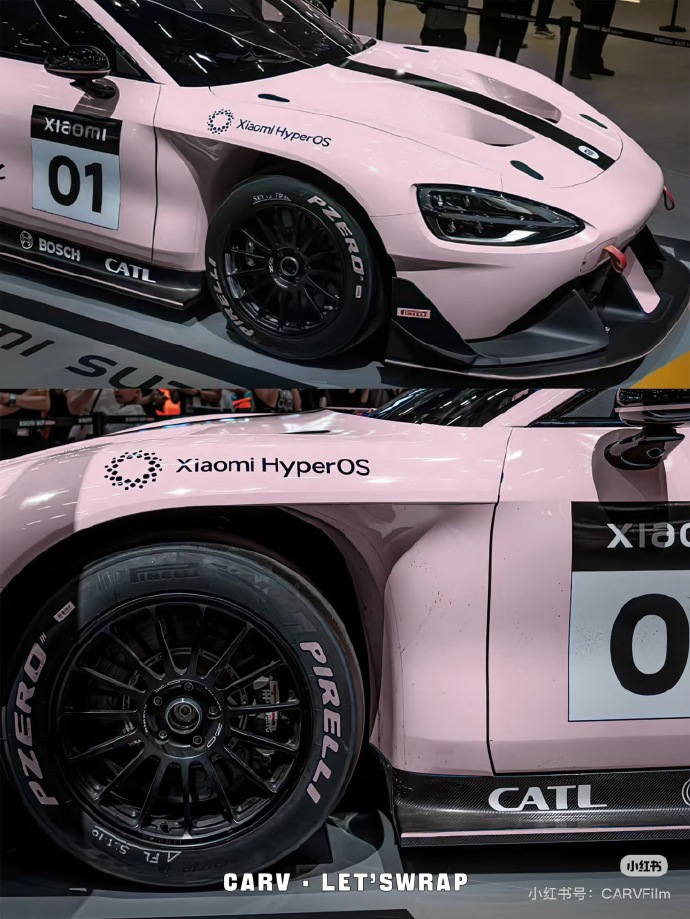su7: (0, 0, 688, 378)
